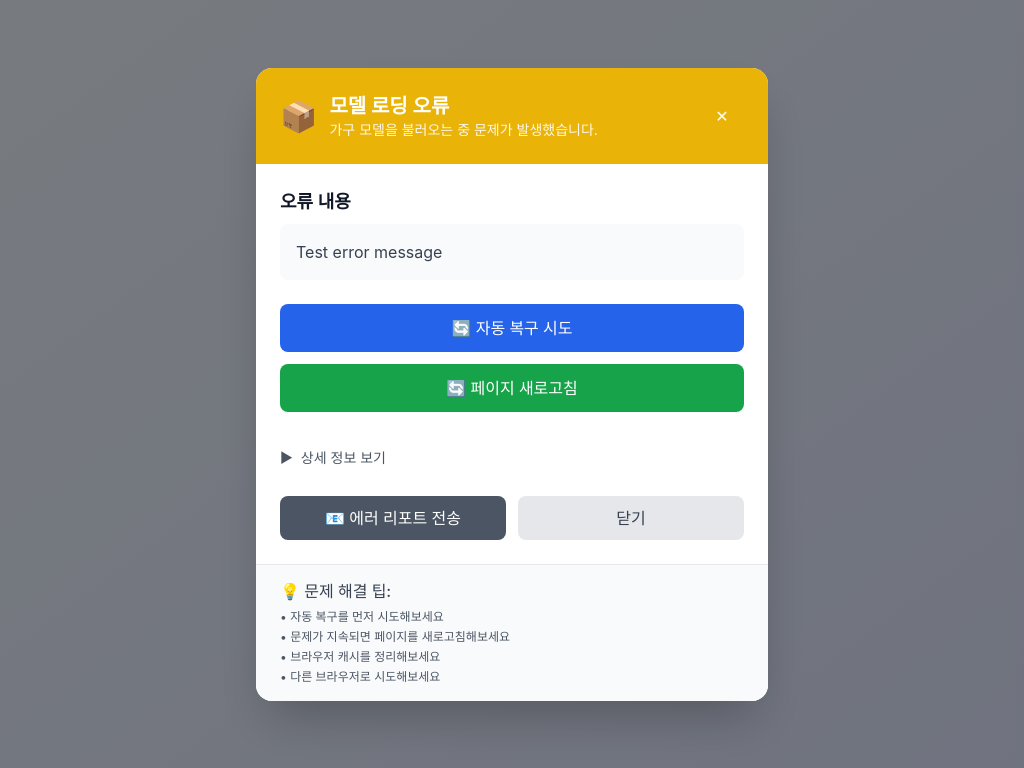
Test: ErrorModal › handles recovery failure
Click the button "🔄 자동 복구 시도" at (512, 328), box x1=280 y1=304 x2=744 y2=352
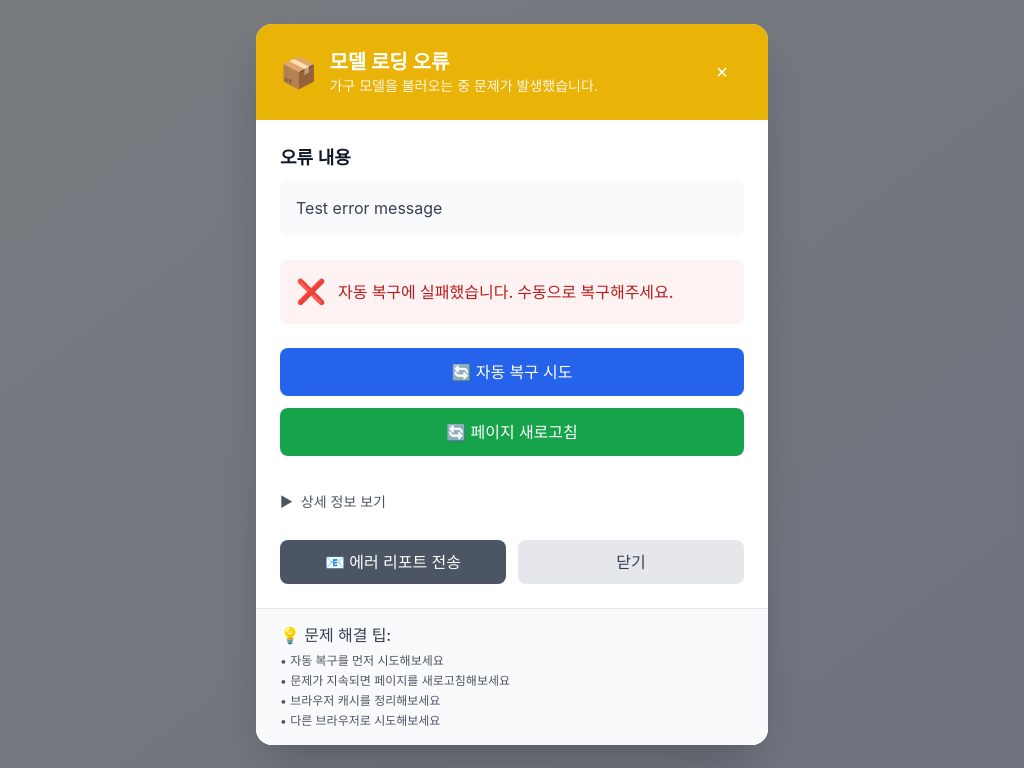
Expected: the text "자동 복구에 실패했습니다. 수동으로 복구해주세요." is shown, x1=338 y1=280 x2=674 y2=304
